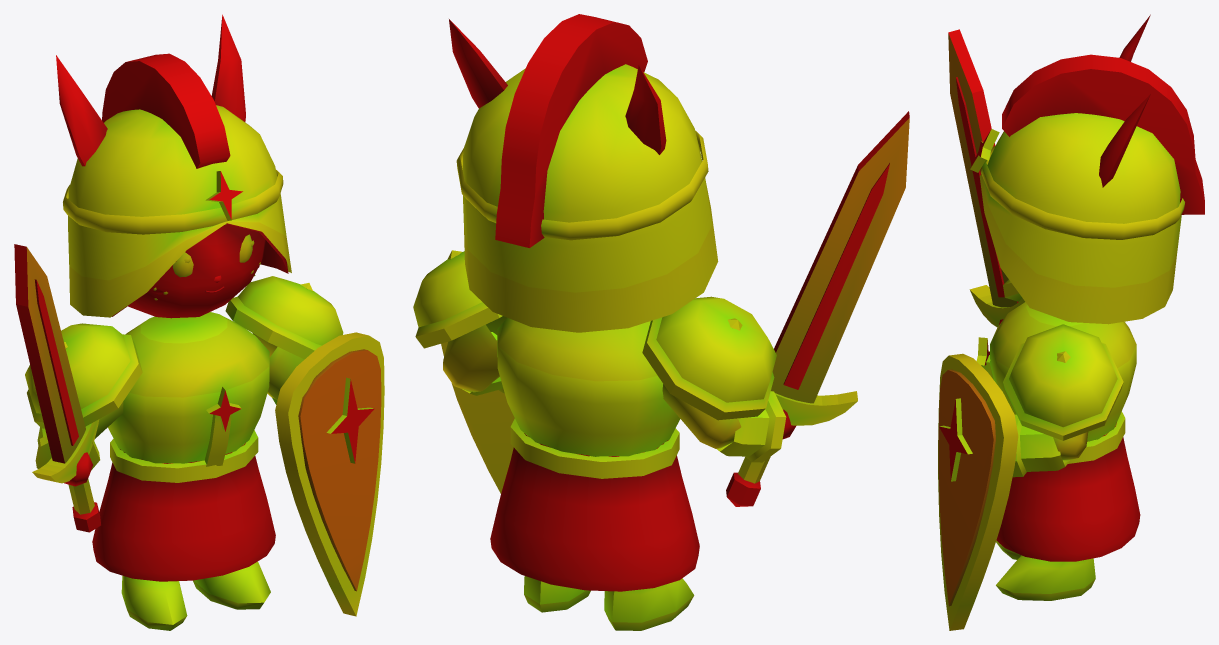
Rendered from StarKnight.glb.
3 renders of one model, left to right at view 1: azimuth 30°, elevation 25°; view 2: azimuth 150°, elevation 25°; view 3: azimuth 270°, elevation 25°, orthographic. The views are drawn at different scales.
Parts seen in each view (by area): view 1: StarKnight; view 2: StarKnight; view 3: StarKnight.
Part boxes in pixels (box(x1,y1,x2,y2)): StarKnight: box(14, 14, 384, 630); StarKnight: box(413, 14, 909, 630); StarKnight: box(938, 14, 1204, 630).
Size of the model in its own units: 0.7825 by 1.02 by 0.4714.
